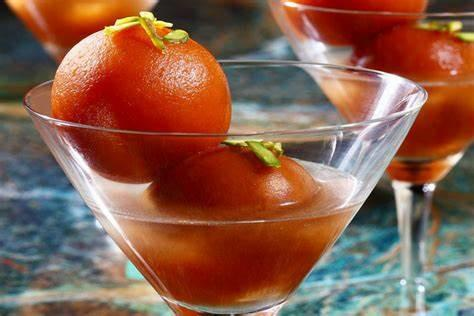GulabJamun: (44, 12, 232, 184), (140, 139, 319, 221), (346, 20, 474, 86), (283, 0, 431, 48)
